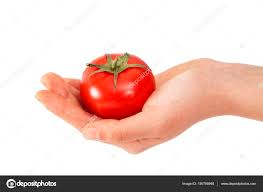tomato: (82, 54, 156, 118)
